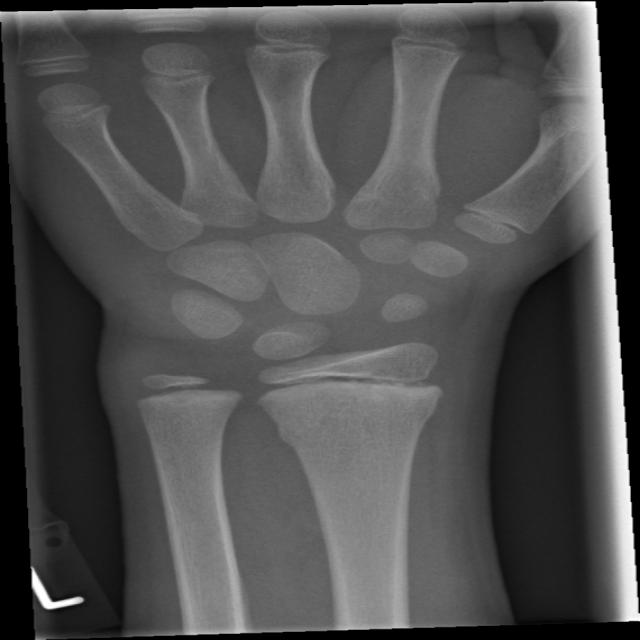radius fracture: (240, 397, 484, 469)
